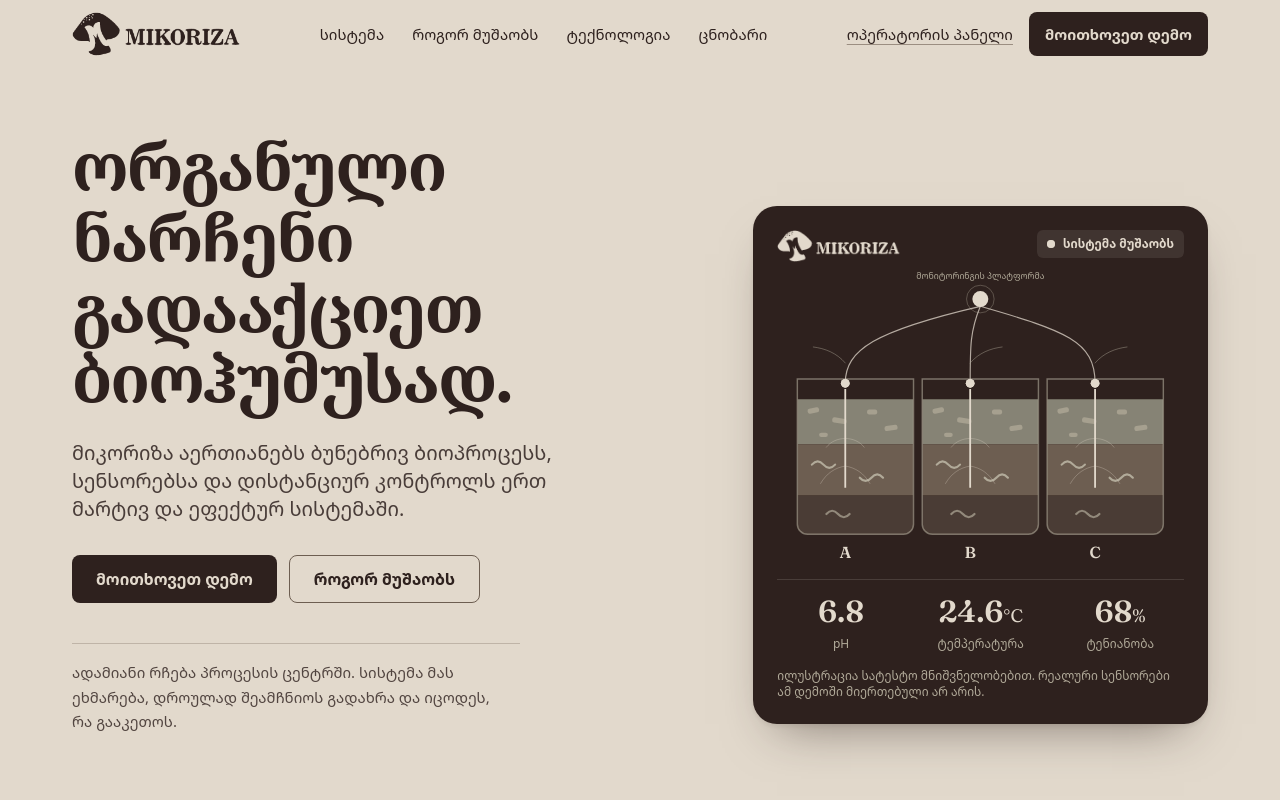
landing page › opens the demo modal and validates the form
The image size is (1280, 800).
Click the 1st button "მოითხოვეთ დემო". click: point(1118, 34)
box: [1029,12,1208,56]
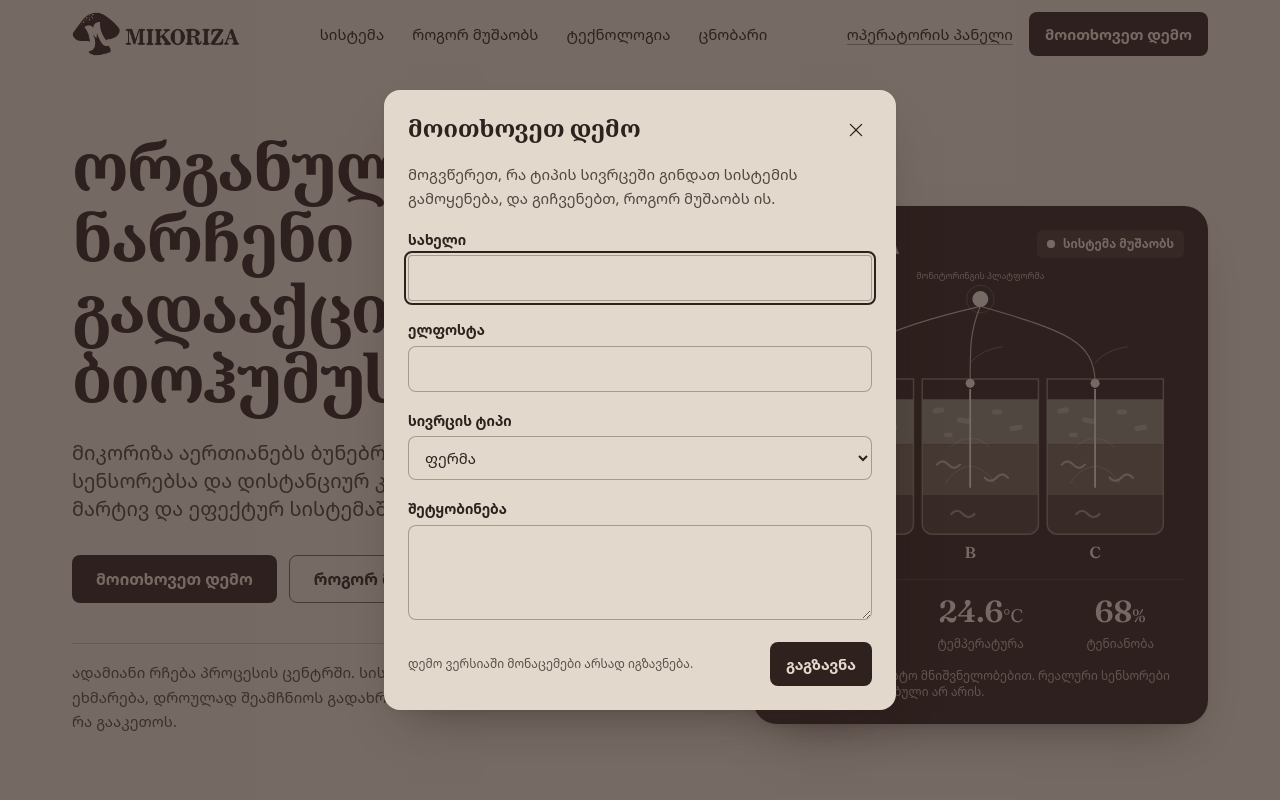
Click the button "გაგზავნა". click: point(821, 664)
box: [770,642,872,686]
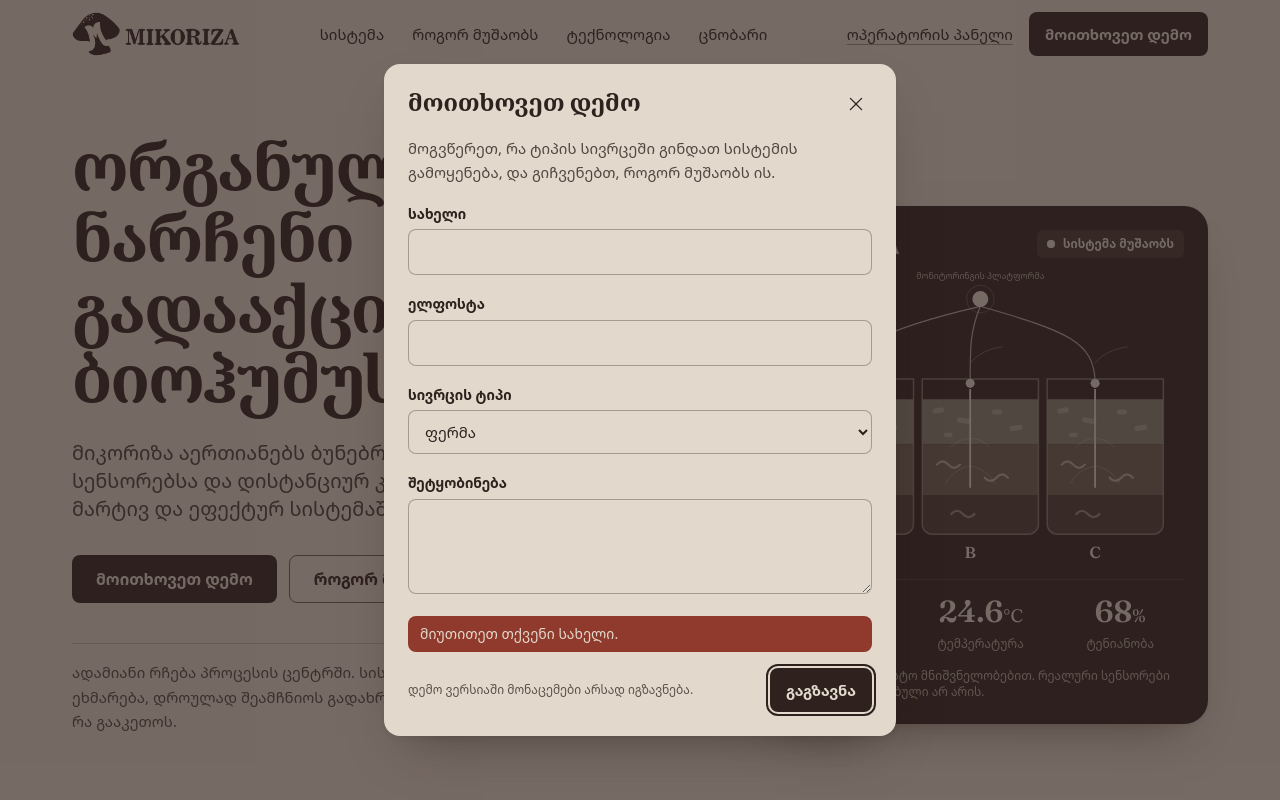
Result: the message shows "მიუთითეთ თქვენი სახელი" at [420,624,618,643]
Type "რატი" into the field labelled "სახელი". click: point(640, 252)
box: [408,229,872,275]
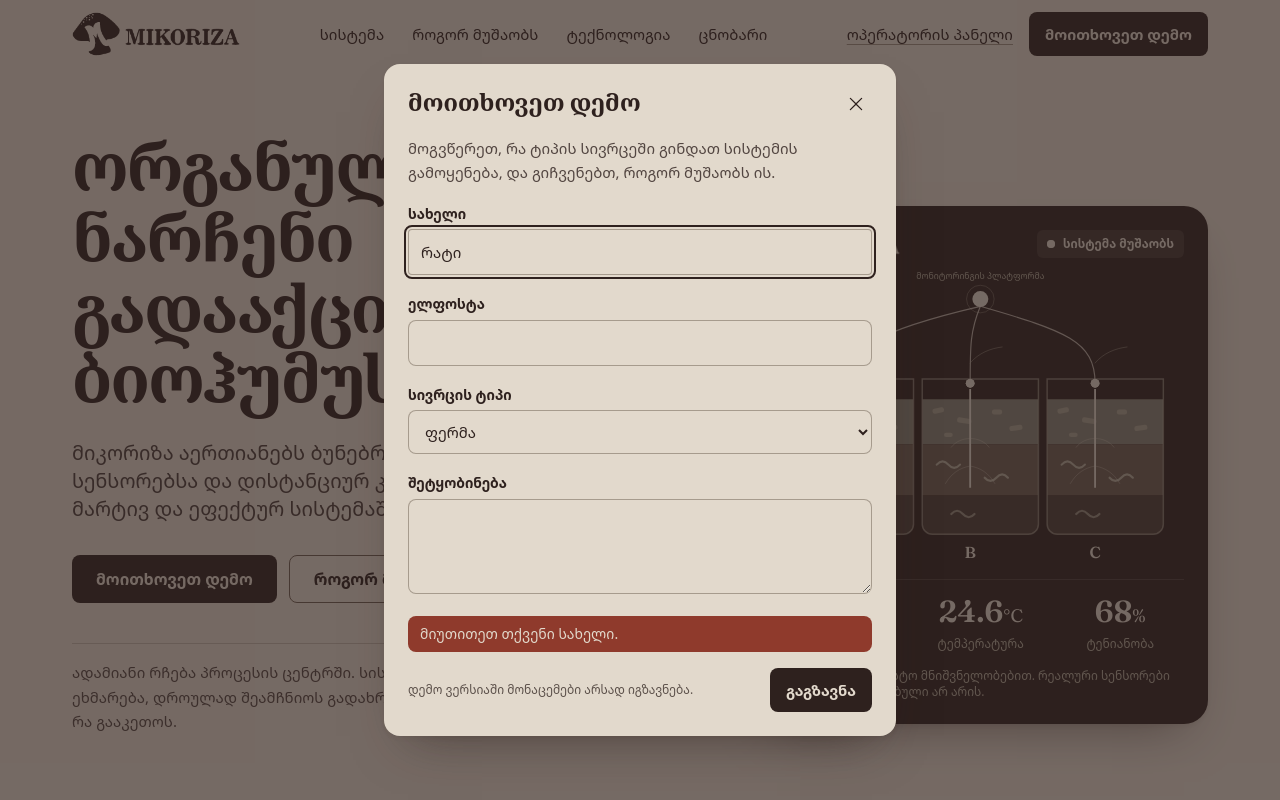
Type "rati@example.com" into the field labelled "ელფოსტა". click: point(640, 343)
box: [408,320,872,366]
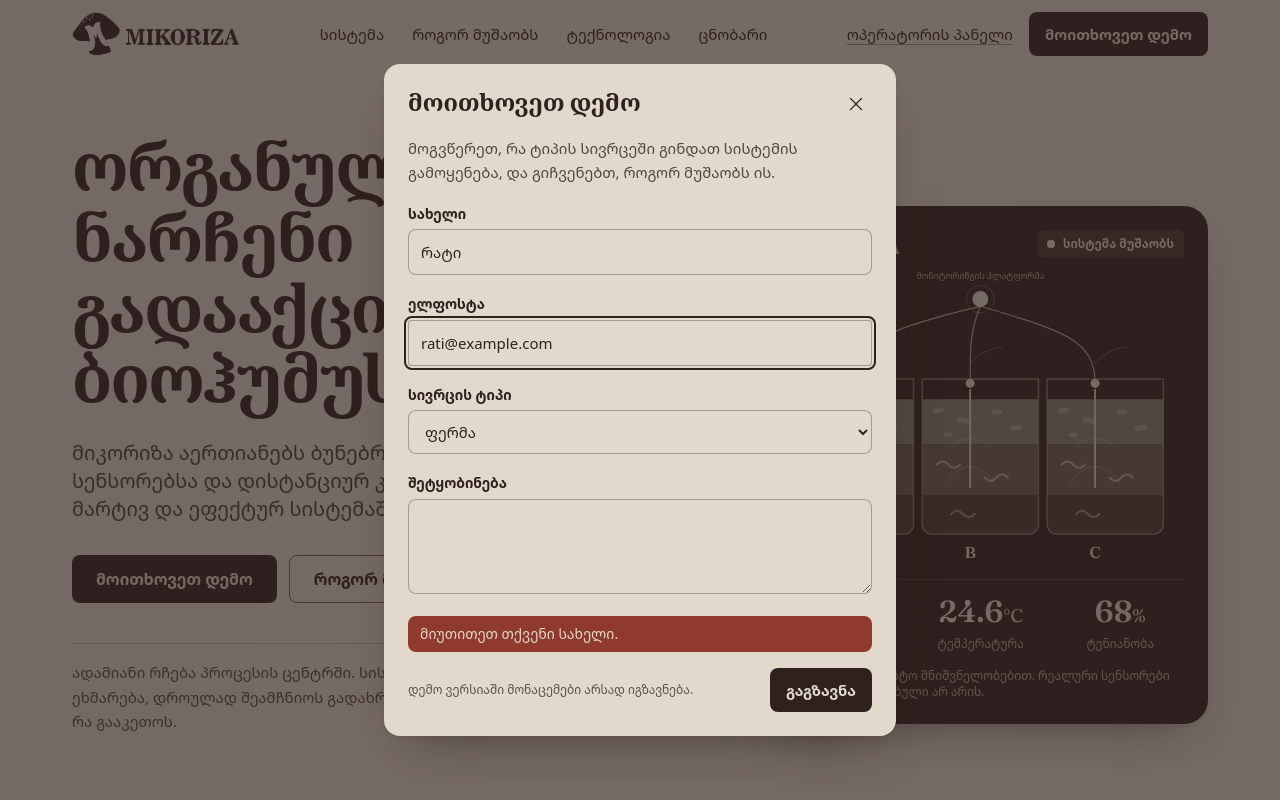
Click the button "გაგზავნა". click: point(821, 690)
box: [770,668,872,712]
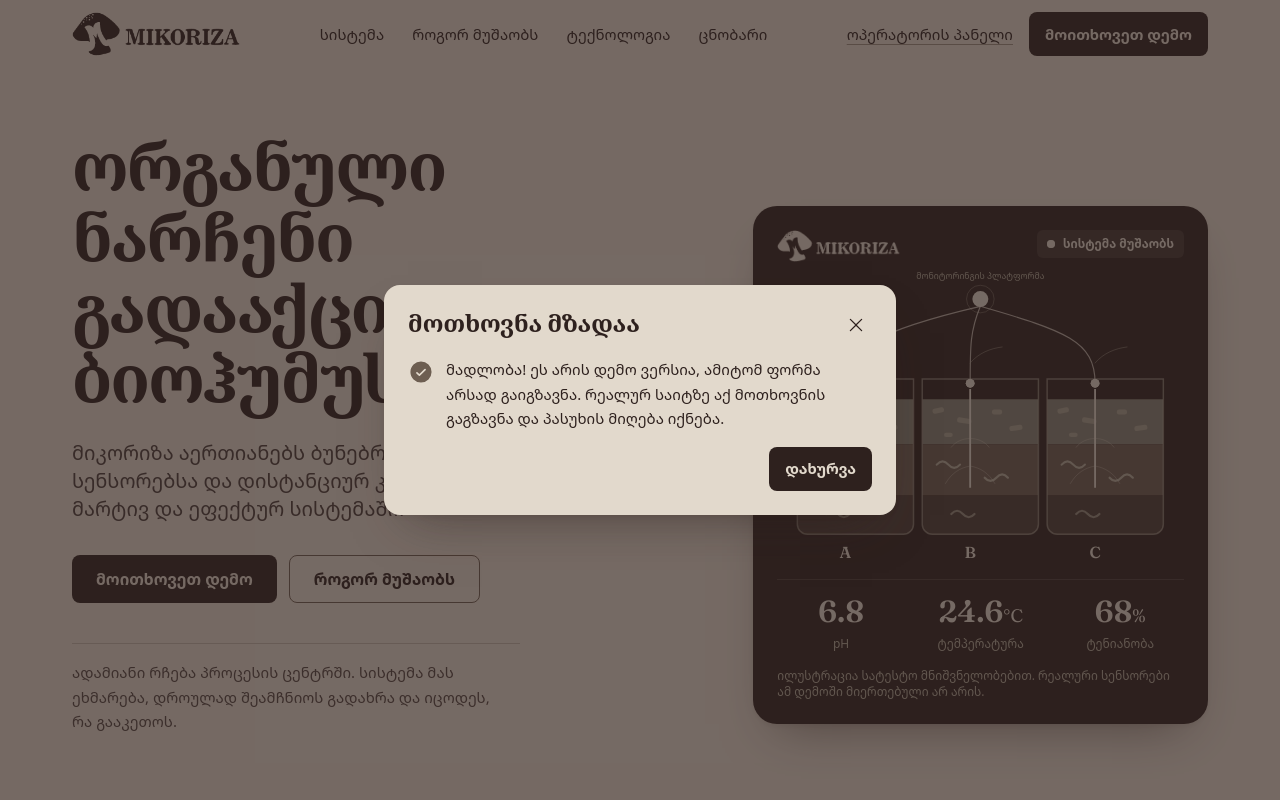
Result: the text "ფორმა არსად გაიგზავნა" is shown at [446,359,825,428]
